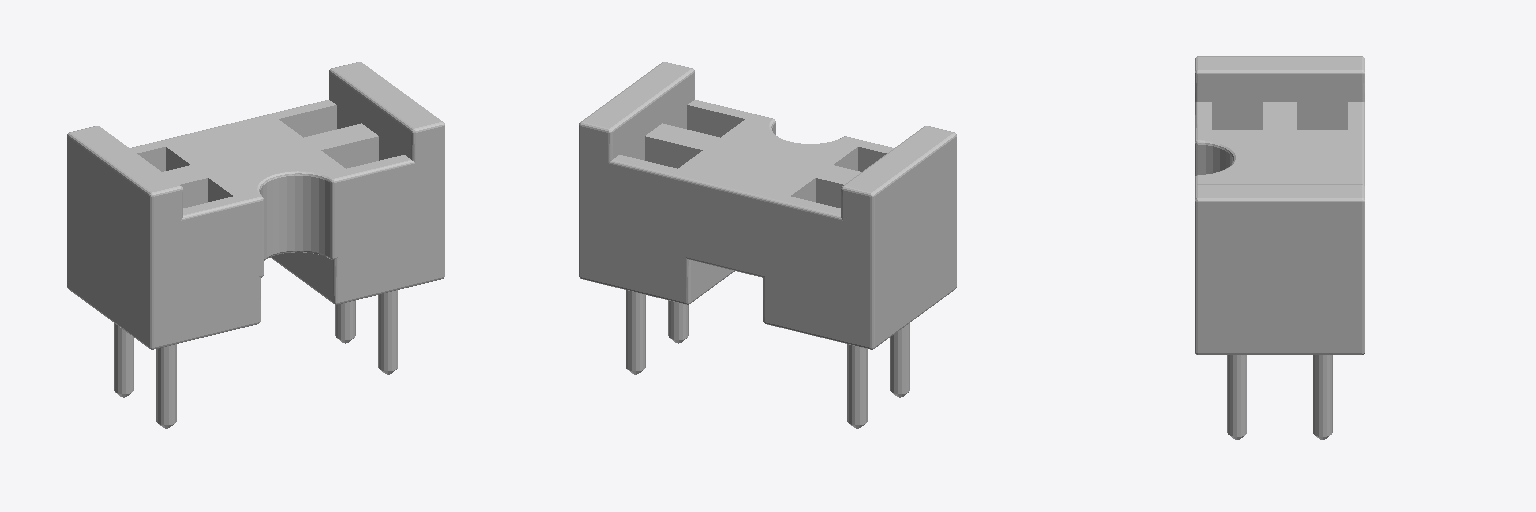
The model's file is IC_Sockel_4P.obj.
3 renders of one model, left to right at view 1: azimuth 30°, elevation 25°; view 2: azimuth 150°, elevation 25°; view 3: azimuth 270°, elevation 25°, orthographic.
Parts seen in each view (by area): view 1: Volumenkörper1; view 2: Volumenkörper1; view 3: Volumenkörper1.
Part boxes in pixels (x1,y1,x2,y2): Volumenkörper1: (67,62,444,428); Volumenkörper1: (579,62,956,428); Volumenkörper1: (1195,56,1364,439).
Bounding box in the file's own units: 10.16 × 8.46 × 5.08.